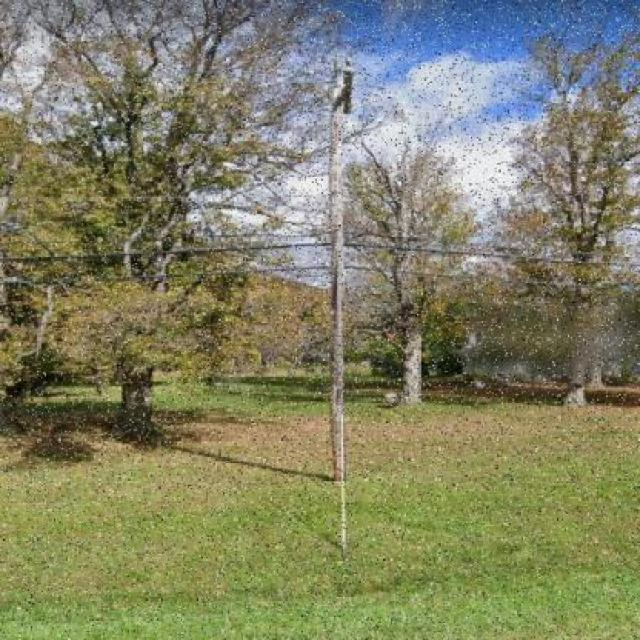pole: (282, 53, 384, 578)
